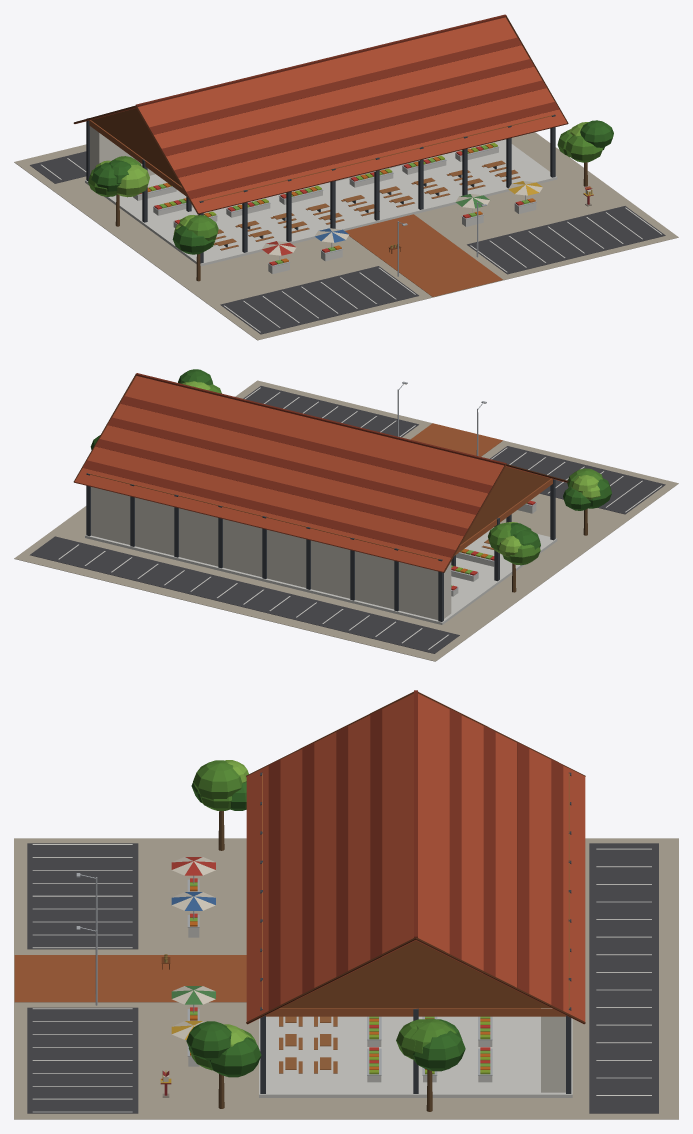
Rendered from market.glb.
3 views of the same model, one above another, from view 1: azimuth 30°, elevation 25°; view 2: azimuth 150°, elevation 25°; view 3: azimuth 270°, elevation 25° (orthographic). The views are drawn at different scales.
Visible parts, largest first — view 1: body; view 2: body; view 3: body.
Boxes of the visible parts, box(x1,y1,x2,y2) form: body: box(14, 14, 678, 340); body: box(14, 369, 678, 661); body: box(14, 690, 678, 1119).
Size of the model in its own units: 50.27 by 13.21 by 47.9.
